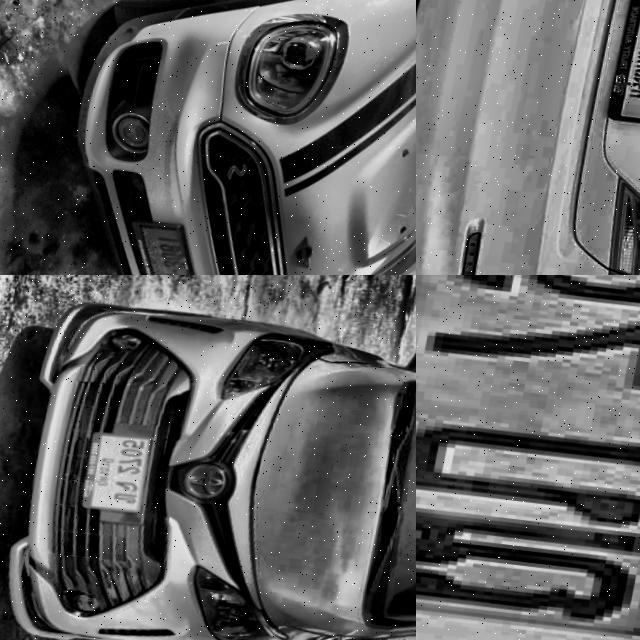license-plate: (416, 275, 640, 640), (70, 427, 168, 517), (120, 215, 220, 275), (609, 0, 640, 131)
